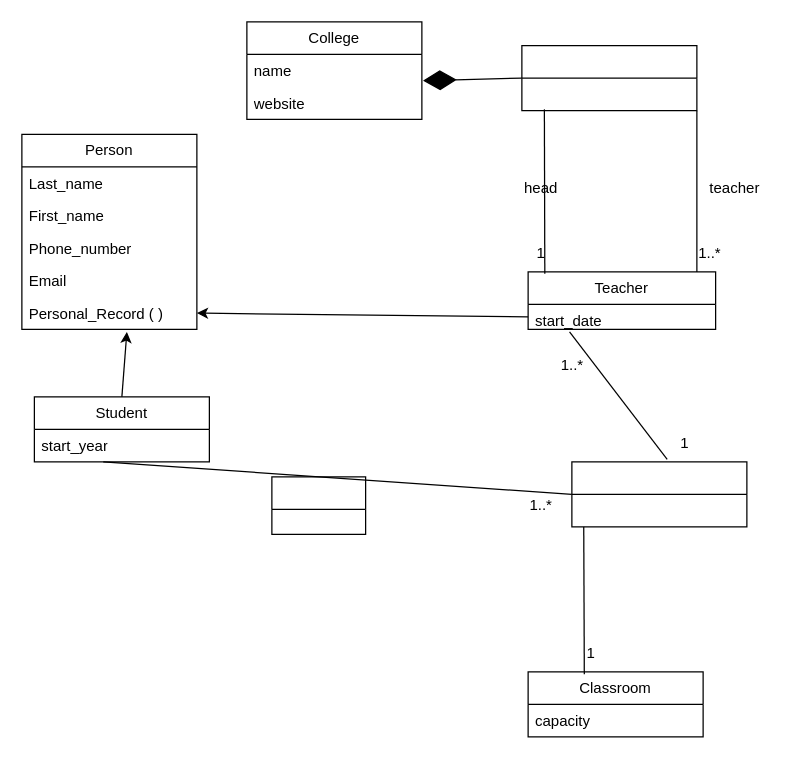
Some shapes in this 794 by 763 pixel diagram are drawn without their labels. Here are the shapes that lost their labels. From the top down, the centre of each, then its label:
At (609,77): "Department".
At (318,505): "Grade".
At (659,494): "Subject".
